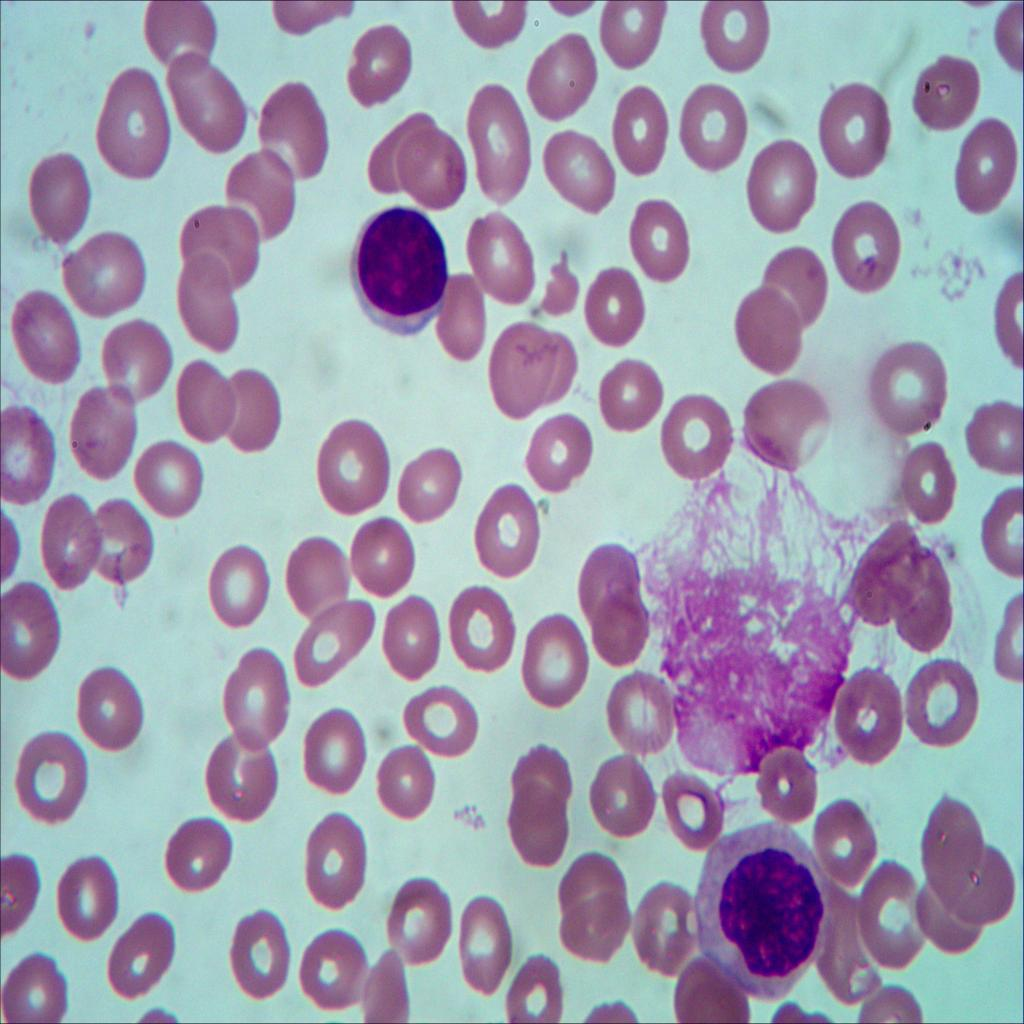Eritrosit: (89, 60, 172, 182), (168, 54, 256, 165), (486, 325, 579, 423), (53, 226, 152, 318), (743, 376, 834, 476), (7, 276, 85, 392), (214, 890, 293, 1002), (465, 81, 534, 208), (63, 374, 141, 482), (914, 783, 986, 899), (460, 204, 550, 296), (212, 646, 294, 746), (813, 870, 874, 1004), (15, 728, 97, 826), (472, 479, 551, 580), (124, 433, 206, 528), (445, 882, 511, 1000), (521, 30, 600, 128), (604, 666, 686, 760), (95, 304, 175, 400), (802, 785, 884, 878), (608, 84, 684, 184), (366, 590, 445, 686), (676, 82, 758, 174), (39, 479, 104, 595), (290, 921, 374, 1010), (831, 197, 905, 298), (729, 284, 809, 377), (845, 520, 924, 614), (106, 908, 186, 1000), (230, 148, 305, 246), (261, 84, 340, 177), (445, 578, 518, 678), (629, 195, 702, 295), (16, 149, 98, 238), (596, 0, 686, 81), (861, 856, 926, 968), (948, 119, 1022, 217), (820, 78, 894, 176), (311, 420, 397, 504), (174, 204, 264, 284), (384, 876, 460, 970), (904, 654, 980, 748), (654, 398, 736, 485), (573, 257, 648, 352), (549, 113, 617, 217), (206, 730, 282, 822), (523, 408, 599, 500), (582, 747, 658, 839), (302, 707, 374, 804), (426, 263, 490, 371), (386, 444, 471, 525), (215, 368, 295, 454), (300, 809, 368, 910), (872, 344, 954, 427), (56, 850, 124, 950), (747, 140, 820, 233), (339, 19, 417, 106), (759, 240, 832, 332), (525, 608, 592, 708), (0, 585, 71, 679), (840, 660, 906, 761), (629, 876, 693, 978), (696, 0, 784, 73), (284, 531, 350, 628), (82, 500, 153, 590), (76, 668, 147, 758), (155, 812, 239, 888), (128, 0, 219, 70), (365, 104, 437, 192), (298, 603, 378, 682), (183, 254, 245, 354), (399, 679, 480, 755), (556, 848, 638, 923), (659, 755, 726, 845), (559, 883, 629, 969), (352, 504, 414, 601), (749, 742, 820, 826), (912, 882, 983, 966), (950, 839, 1014, 932), (204, 544, 272, 631), (580, 588, 654, 664), (675, 959, 760, 1024), (912, 52, 981, 132), (0, 406, 58, 501), (165, 368, 234, 447), (591, 355, 668, 425), (960, 398, 1024, 480), (504, 788, 569, 868), (356, 943, 420, 1024), (4, 950, 74, 1024), (503, 946, 569, 1024), (574, 536, 637, 617), (901, 563, 958, 649), (894, 436, 950, 522), (409, 137, 469, 214), (378, 747, 440, 815), (511, 745, 574, 809), (531, 250, 586, 319), (976, 489, 1024, 566)
Limfoblast: (341, 200, 449, 339)
Limfosit: (690, 810, 834, 1007)
